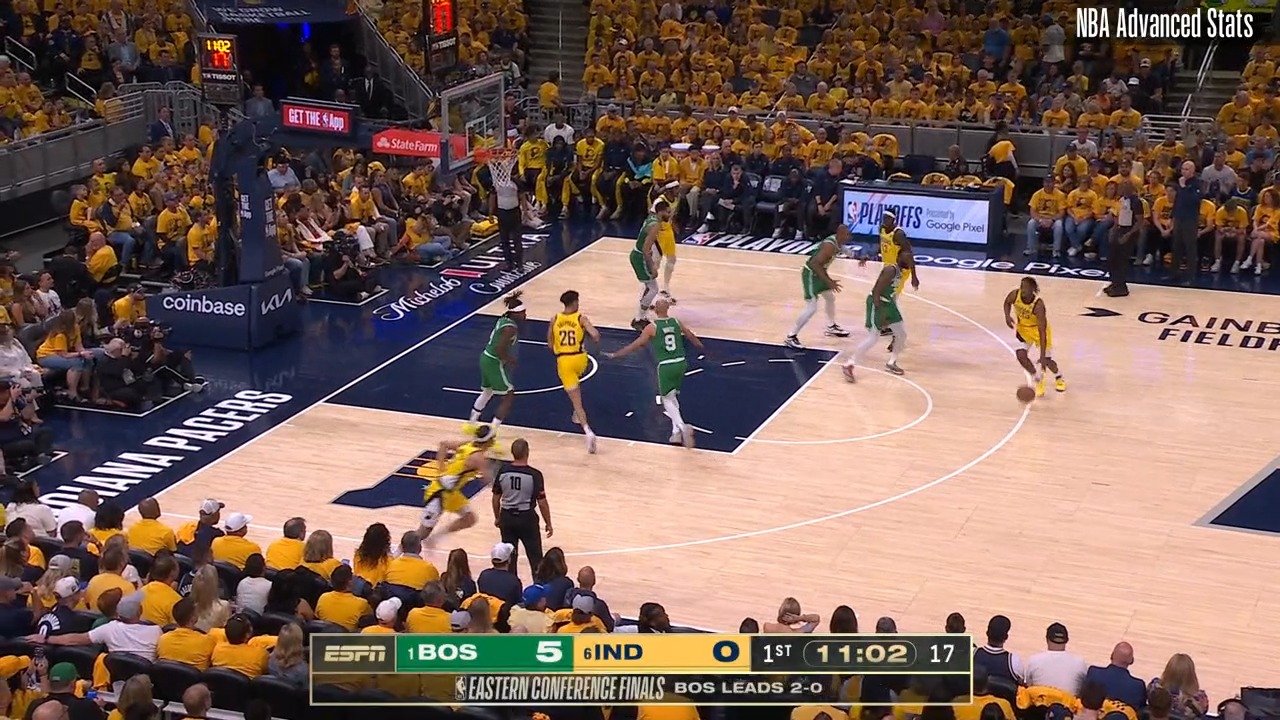basketball: (1016, 384, 1035, 405)
